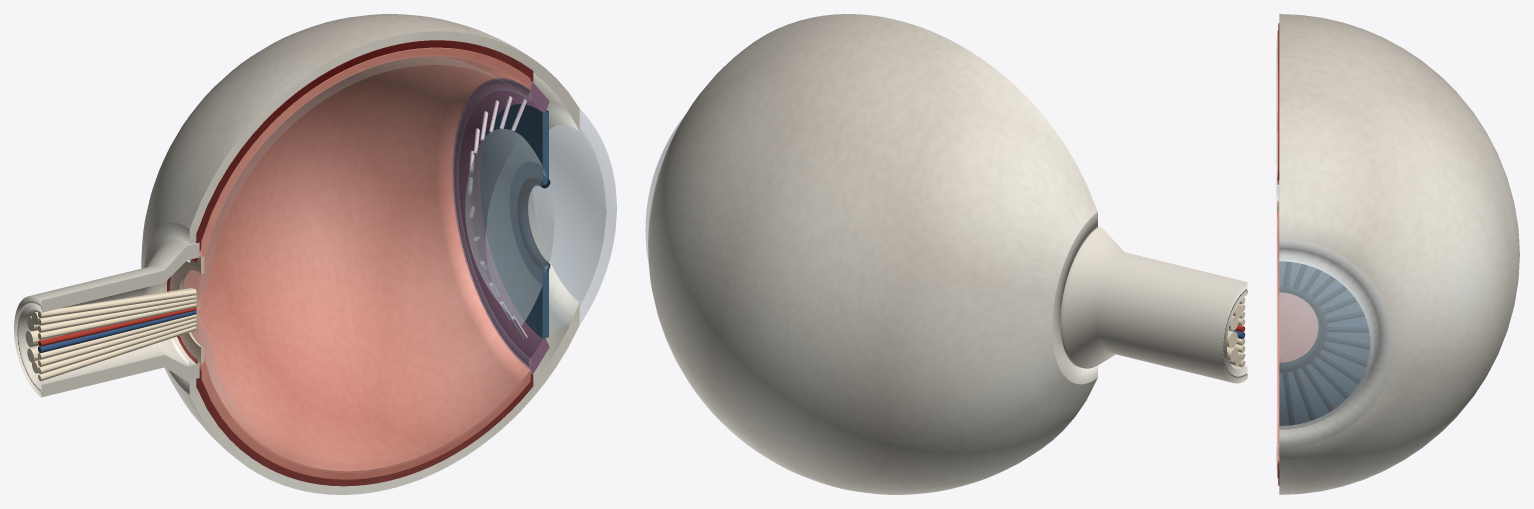
Rendered from human-eye.glb.
3 renders of one model, left to right at view 1: azimuth 30°, elevation 25°; view 2: azimuth 150°, elevation 25°; view 3: azimuth 270°, elevation 25°, orthographic. The views are drawn at different scales.
Visible parts, largest first — view 1: Retina, Sclera, OpticNerve, Lens, Iris, CiliaryBody, Cornea, AnteriorChamber, Choroid, VitreousBody; view 2: Sclera, OpticNerve; view 3: Sclera, Cornea, Iris, Retina, VitreousBody, Choroid.
Part boxes in pixels (x1=…): Retina: x1=169, y1=47, x2=530, y2=479; Sclera: x1=141, y1=14, x2=579, y2=494; OpticNerve: x1=14, y1=239, x2=199, y2=397; Lens: x1=465, y1=128, x2=554, y2=325; Iris: x1=480, y1=104, x2=550, y2=338; CiliaryBody: x1=452, y1=78, x2=549, y2=374; Cornea: x1=549, y1=109, x2=616, y2=324; AnteriorChamber: x1=547, y1=109, x2=605, y2=334; Choroid: x1=167, y1=40, x2=533, y2=486; VitreousBody: x1=183, y1=56, x2=530, y2=472; Sclera: x1=648, y1=14, x2=1097, y2=494; OpticNerve: x1=1060, y1=226, x2=1247, y2=383; Sclera: x1=1279, y1=14, x2=1519, y2=494; Cornea: x1=1279, y1=239, x2=1394, y2=447; Iris: x1=1279, y1=261, x2=1369, y2=425; Retina: x1=1277, y1=30, x2=1318, y2=478; VitreousBody: x1=1276, y1=38, x2=1278, y2=470; Choroid: x1=1278, y1=23, x2=1279, y2=485.
Size of the model in its own units: 2.67 by 2 by 1.01.
16 materials, 3 textured.
